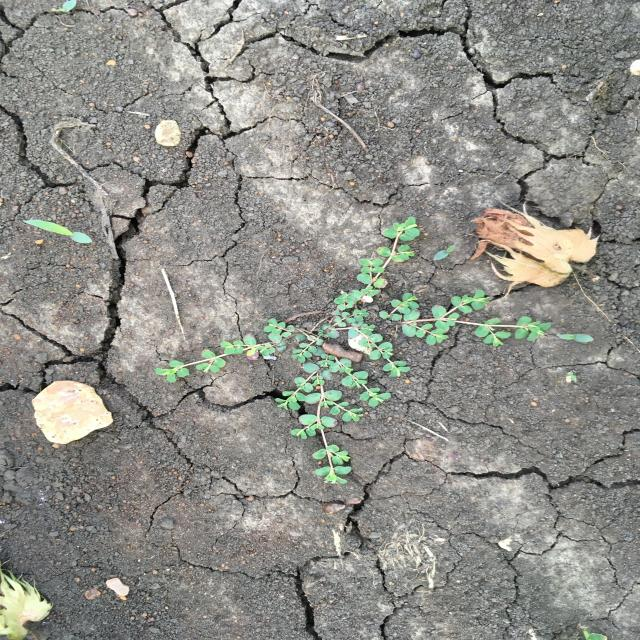SpottedSpurge: (152, 215, 554, 488)
